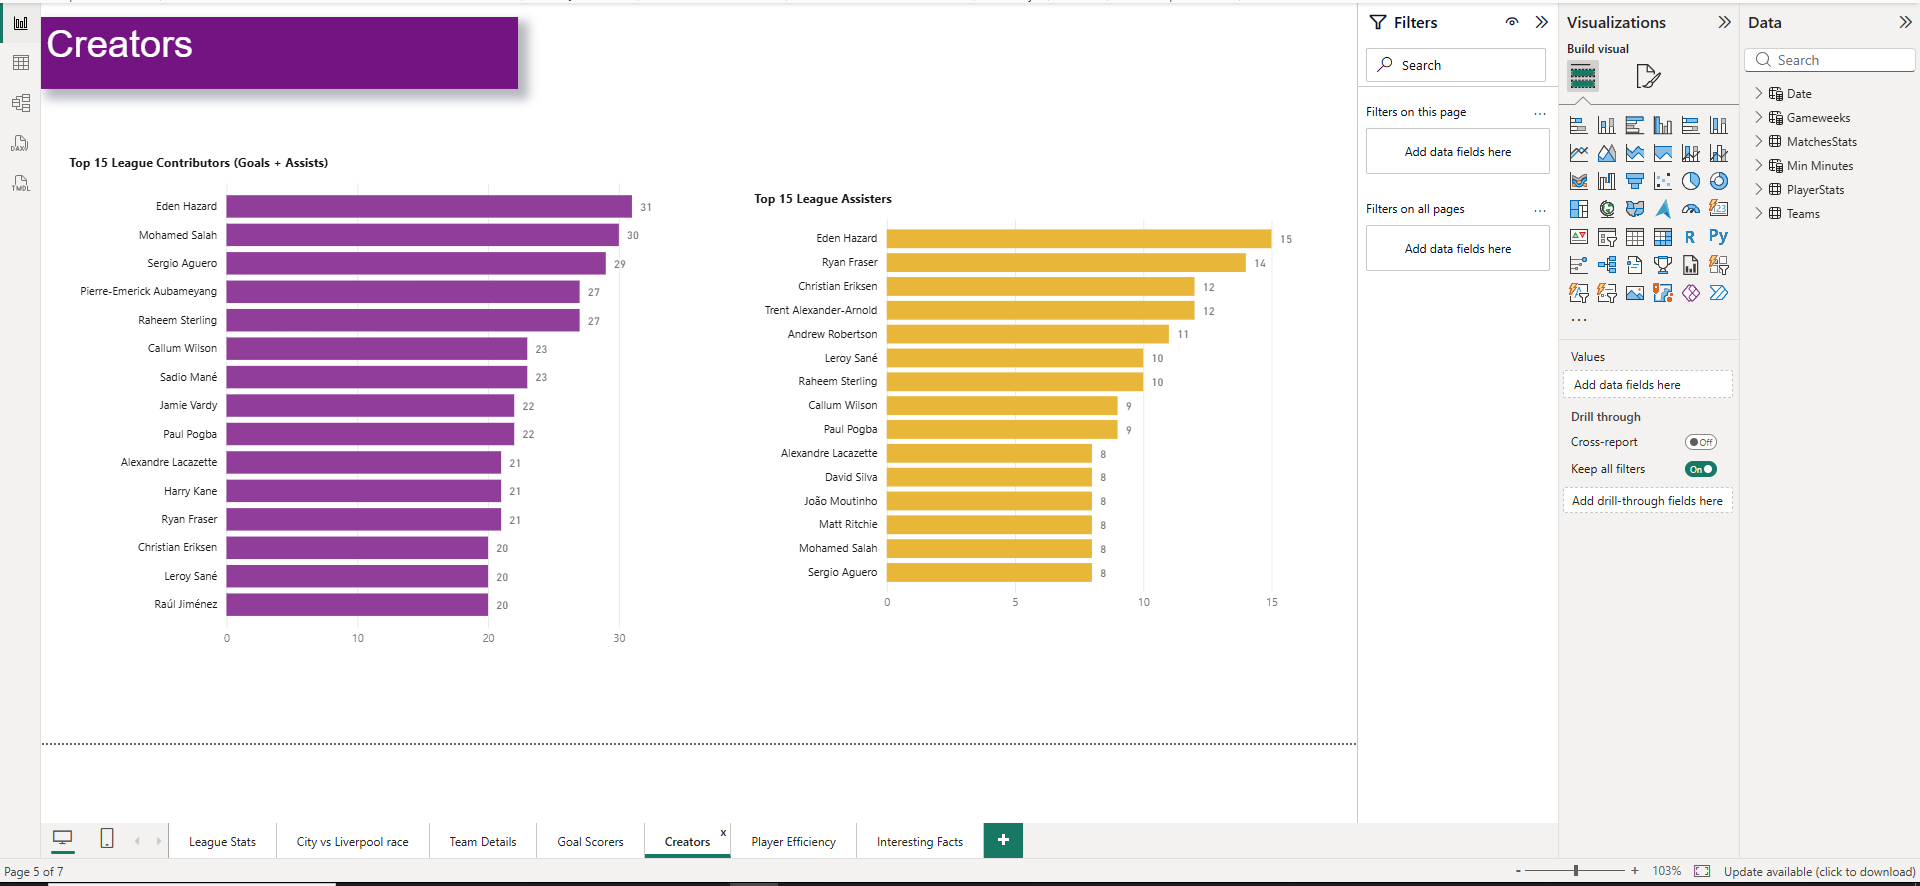

This screenshot's page, from the dashboard's own definition file:
{"tool":"powerbi","page":{"name":"Creators","canvas":[1280,720],"ordinal":4},"visuals":[{"type":"barChart","title":"Top 15 League Assisters","fields":{"Category":["PlayerStats.full_name"],"Y":["PlayerStats.Player Assists"]},"box":[688.5,181.9,544.6,418.7],"z":0},{"type":"barChart","title":"Top 15 League Contributors (Goals + Assists)","fields":{"Category":["PlayerStats.full_name"],"Y":["PlayerStats.Goal Involvements"]},"box":[22,146.9,584.5,488.6],"z":1000},{"type":"textbox","box":[0,14,463.9,69.8],"z":2000}]}

Visuals, with their boxes on the page's 1280x720 design canvas (x1, y1, x2, y2). These are canvas units, not pixel positions in the 1920x886 screenshot, which may show the page scaled, cropped or inside an application window:
"Top 15 League Assisters" barChart: bbox=[688, 182, 1233, 601]
"Top 15 League Contributors (Goals + Assists)" barChart: bbox=[22, 147, 606, 636]
textbox: bbox=[0, 14, 464, 84]
